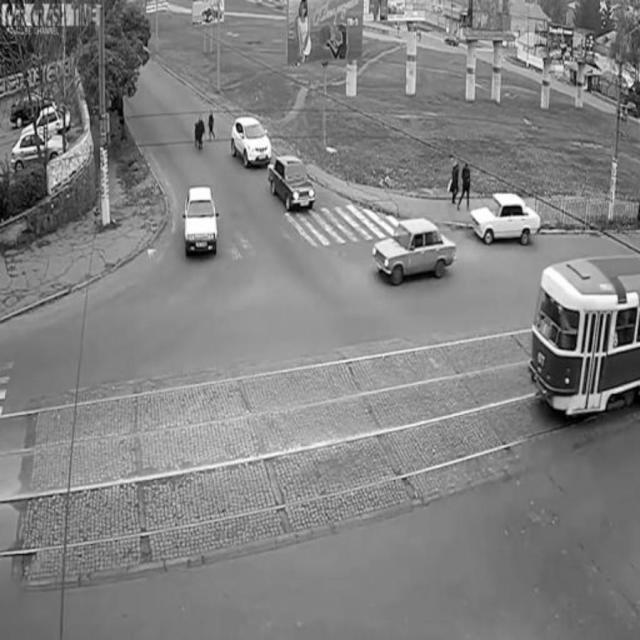person: (460, 155, 474, 212), (191, 107, 205, 159), (450, 147, 460, 217), (204, 98, 218, 146)
vehicle: (537, 253, 640, 432), (368, 220, 456, 275), (476, 196, 540, 243), (269, 157, 320, 214), (183, 189, 221, 262), (13, 129, 70, 174), (229, 114, 270, 166)
